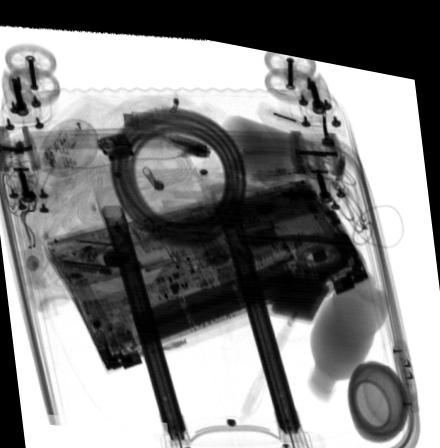Powerbank: (267, 246, 338, 312)
